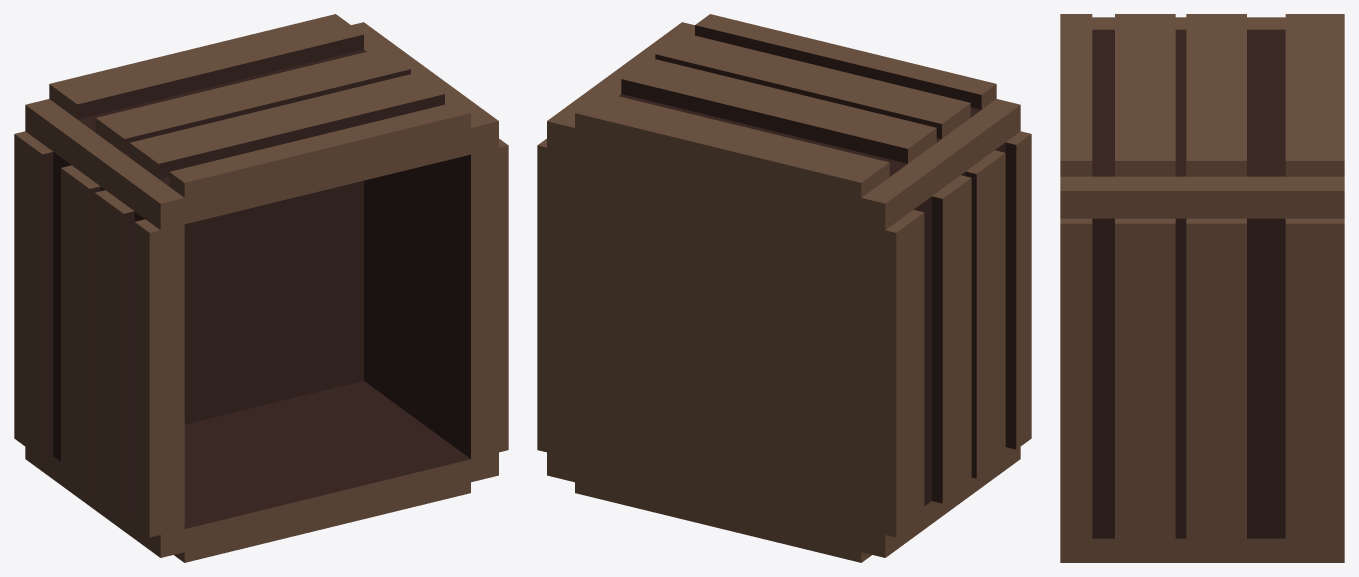
The model's file is caixote.fbx.
3 views of the same model, side by side, from view 1: azimuth 30°, elevation 25°; view 2: azimuth 150°, elevation 25°; view 3: azimuth 270°, elevation 25° (orthographic). The views are drawn at different scales.
Parts seen in each view (by area): view 1: Cube; view 2: Cube; view 3: Cube.
Boxes of the visible parts, box(x1,y1,x2,y2) form: Cube: box(14, 14, 508, 562); Cube: box(537, 14, 1031, 562); Cube: box(1060, 14, 1344, 562).
Bounding box in the file's own units: 309 × 313 × 202.
